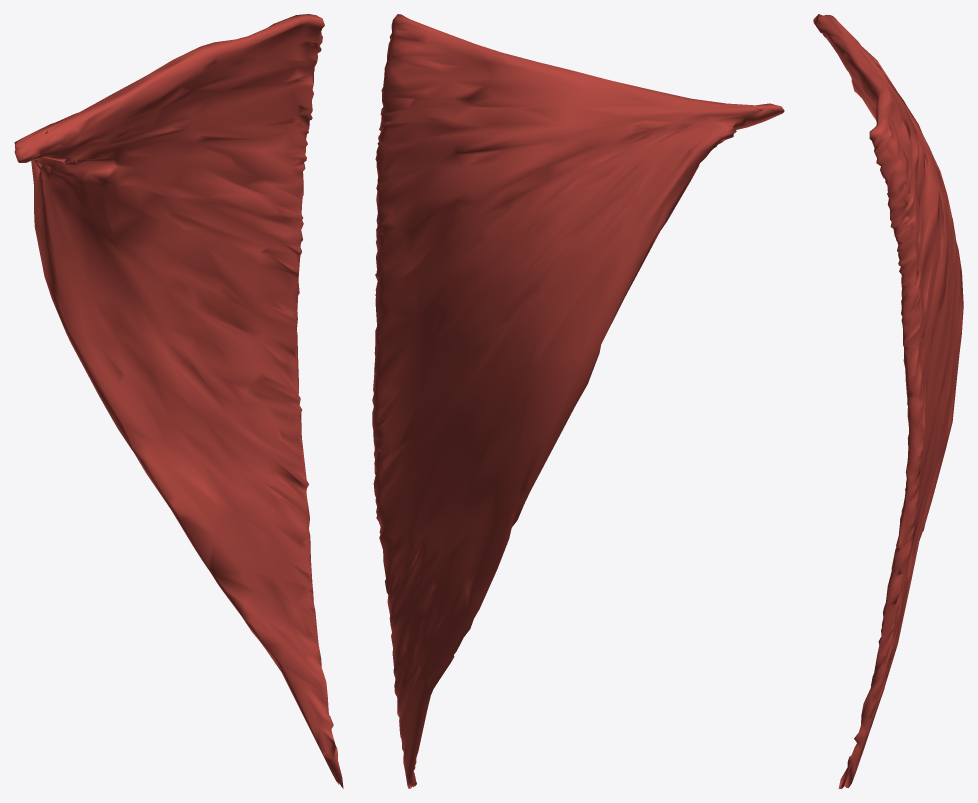
Rendered from musculos-descending-part-of-trapezius-muscle-r.glb.
The picture shows the model from 3 angles, left to right: view 1: azimuth 30°, elevation 25°; view 2: azimuth 150°, elevation 25°; view 3: azimuth 270°, elevation 25°; orthographic projection. The views are drawn at different scales.
Visible parts, largest first — view 1: Descending part of trapezius muscle.r; view 2: Descending part of trapezius muscle.r; view 3: Descending part of trapezius muscle.r.
Part boxes in pixels (x1,y1,x2,y2): Descending part of trapezius muscle.r: (14, 14, 343, 788); Descending part of trapezius muscle.r: (372, 14, 784, 788); Descending part of trapezius muscle.r: (813, 14, 963, 788).
Size of the model in its own units: 0.1388 by 0.2942 by 0.061.
